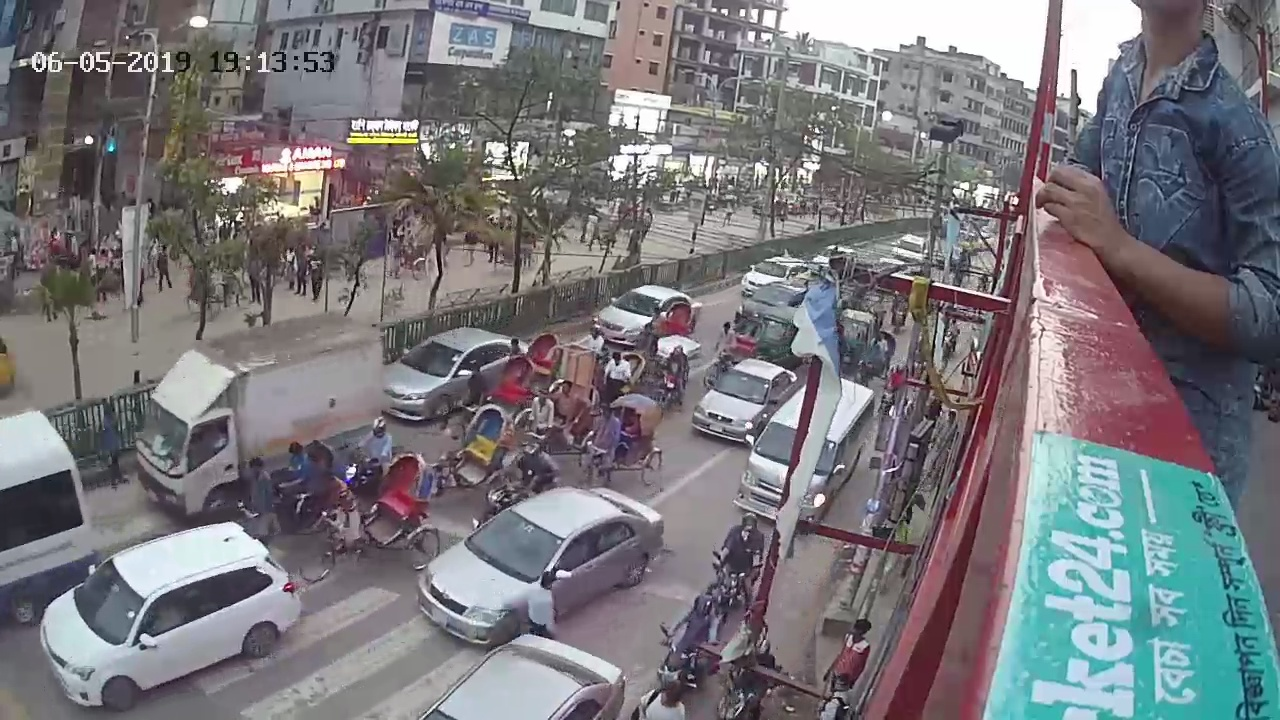fast_in: (129, 305, 387, 525), (37, 519, 300, 713), (411, 484, 673, 652), (730, 373, 878, 526), (384, 325, 533, 424), (652, 567, 725, 715), (688, 349, 797, 448), (591, 273, 704, 349), (702, 507, 768, 626), (329, 417, 401, 496), (733, 252, 816, 301), (753, 308, 806, 365), (654, 342, 691, 408), (885, 231, 930, 259)
slow_in: (296, 447, 448, 585), (233, 439, 348, 547), (425, 403, 522, 499), (579, 393, 671, 491), (427, 399, 517, 497), (520, 378, 600, 466), (451, 355, 541, 423), (701, 309, 768, 390), (500, 332, 569, 389)
